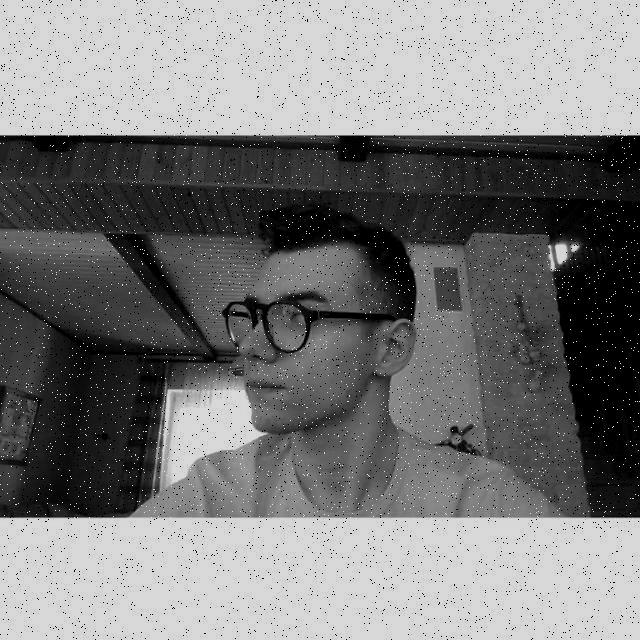real: (240, 249, 355, 434)
